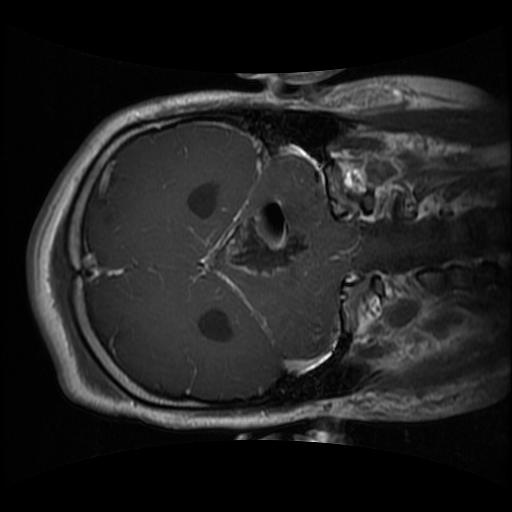glioma: (218, 192, 310, 278)
